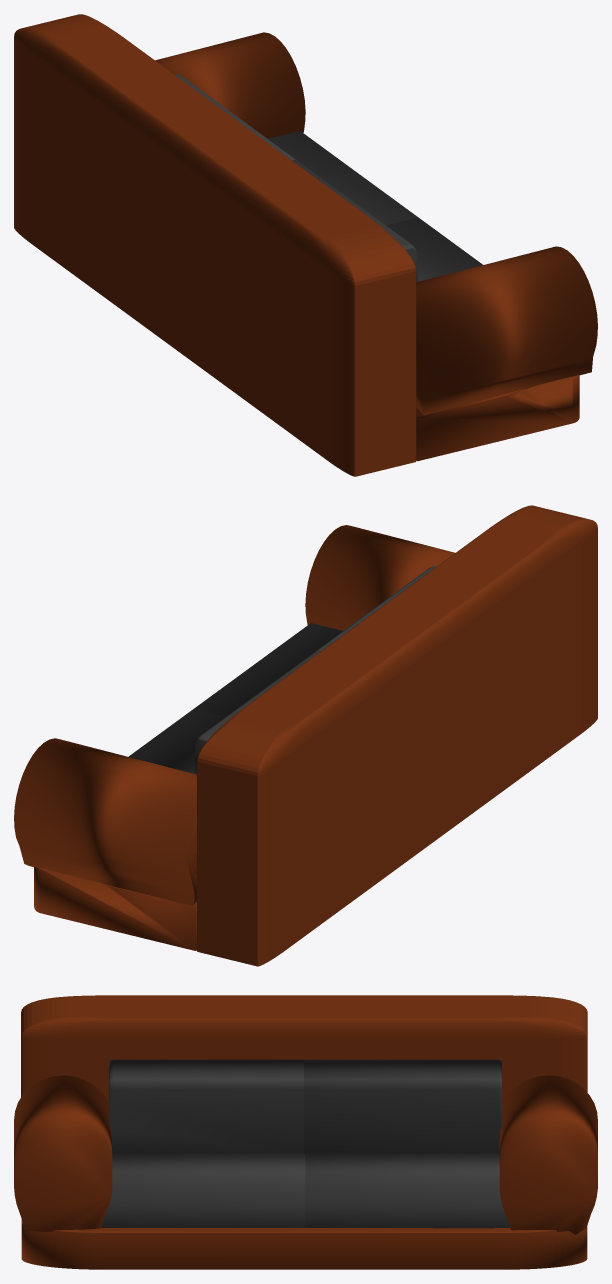
File: BehroozSofa.fbx
3 views of the same model, one above another, from view 1: azimuth 30°, elevation 25°; view 2: azimuth 150°, elevation 25°; view 3: azimuth 270°, elevation 25° (orthographic). The views are drawn at different scales.
Visible parts, largest first — view 1: Cube; view 2: Cube; view 3: Cube.
Part boxes in pixels (left/top/right/bottom): Cube: left=14, top=14, right=597, bottom=476; Cube: left=14, top=505, right=597, bottom=966; Cube: left=14, top=995, right=597, bottom=1269.
Bounding box in the file's own units: 246 × 200 × 601.
